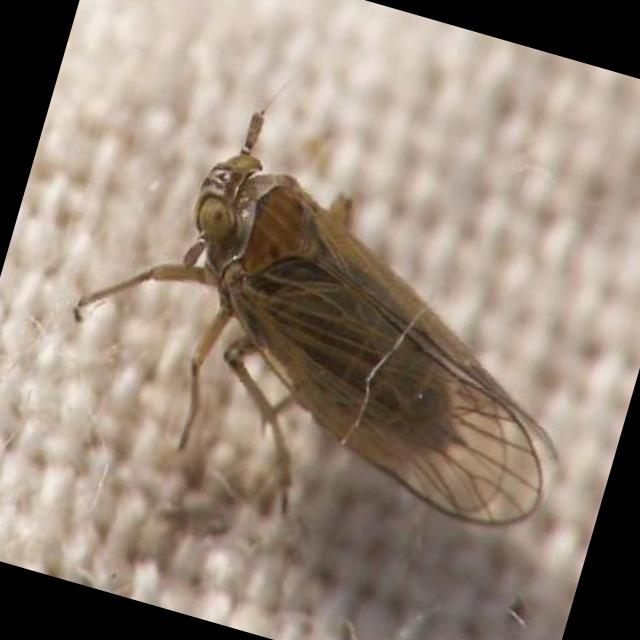brown-planthopper: (118, 116, 622, 544)
